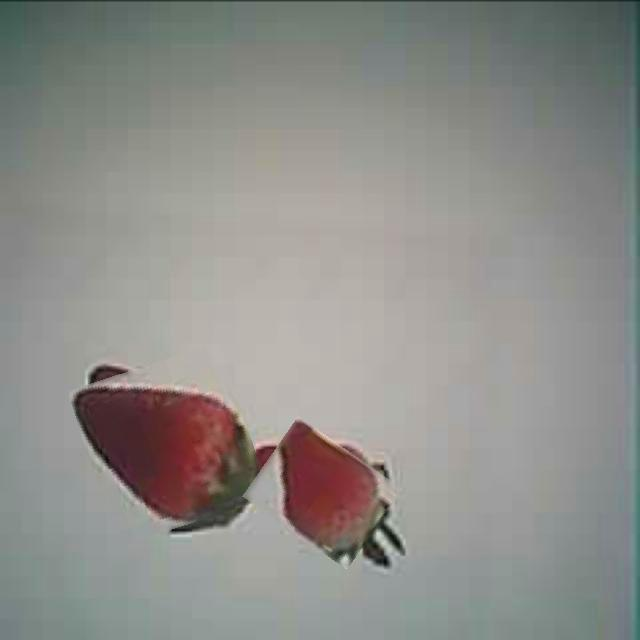strawberry: (78, 352, 260, 536), (250, 430, 394, 556)
